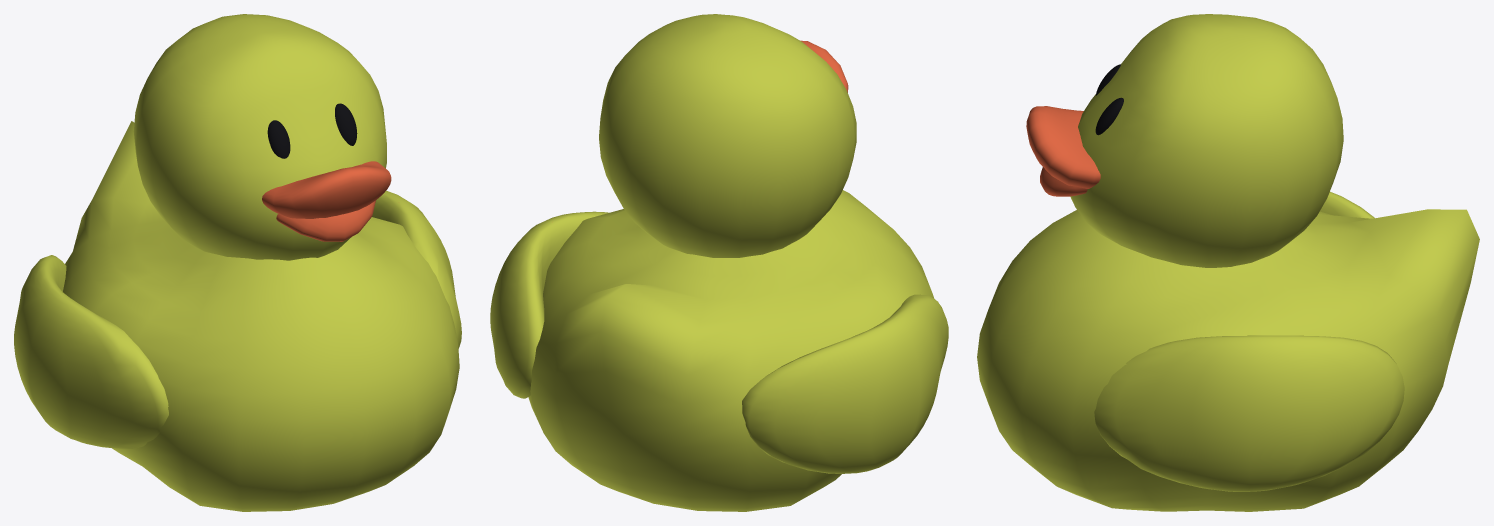
Rendered from duck_anim_new.fbx.
3 views of the same model, side by side, from view 1: azimuth 30°, elevation 25°; view 2: azimuth 150°, elevation 25°; view 3: azimuth 270°, elevation 25° (orthographic). The views are drawn at different scales.
Visible parts, largest first — view 1: Duck_Normal_Combined; view 2: Duck_Normal_Combined; view 3: Duck_Normal_Combined.
Boxes of the visible parts, x1,y1,x2,y2 form: Duck_Normal_Combined: (14, 14, 461, 511); Duck_Normal_Combined: (490, 14, 948, 511); Duck_Normal_Combined: (977, 14, 1479, 511).
Bounding box in the file's own units: 5.98 × 6.04 × 6.12.
